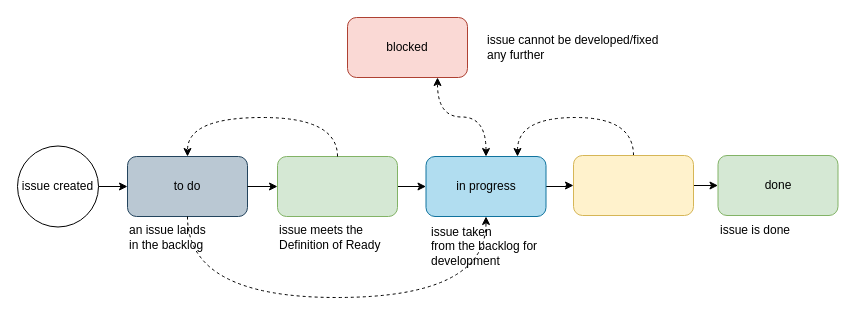
This 856x315 diagram has some shape labels left out. Each missing label, with the centre of its shape:
"ready" belongs at (337,186).
"ready for review" belongs at (633,185).
